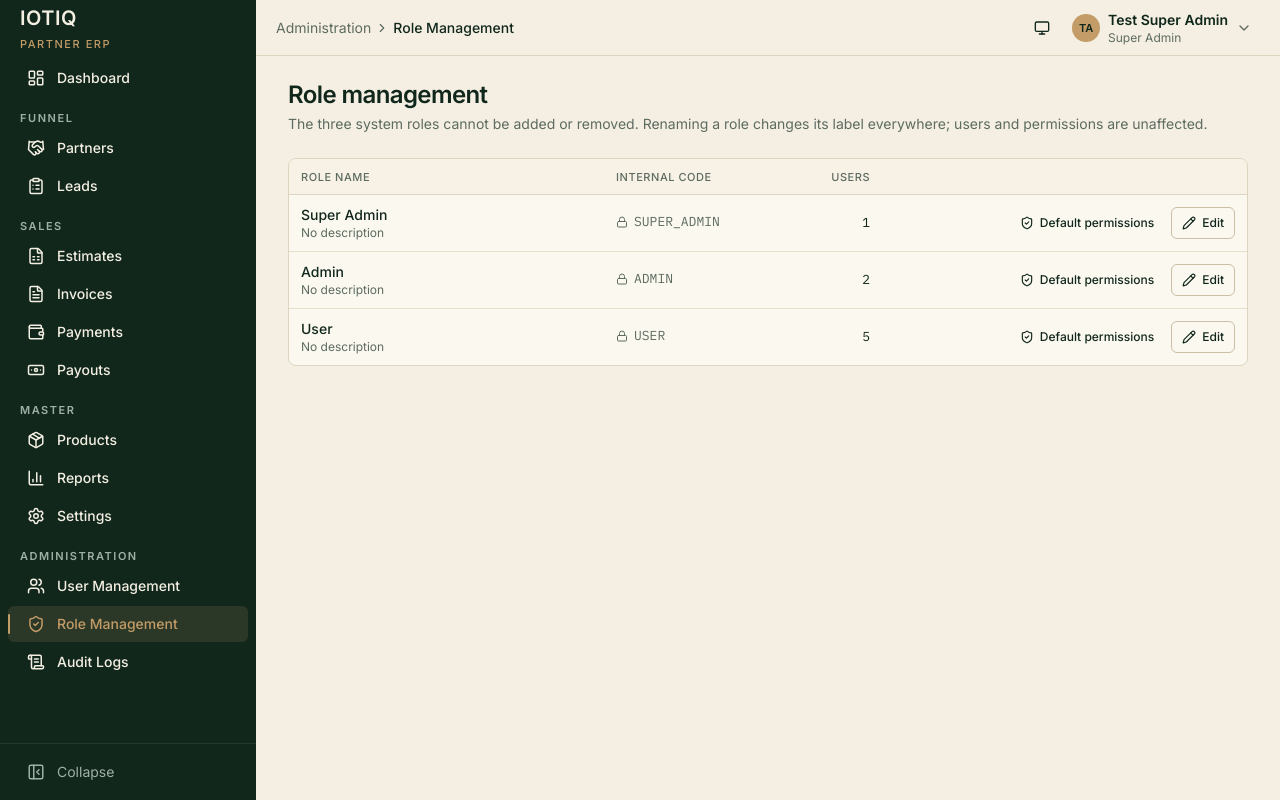
Scenario: role management › reports duplicate names
The image size is (1280, 800).
Click the button with aria-label "Edit User" at point(1203, 337), box [1171,321,1235,353]
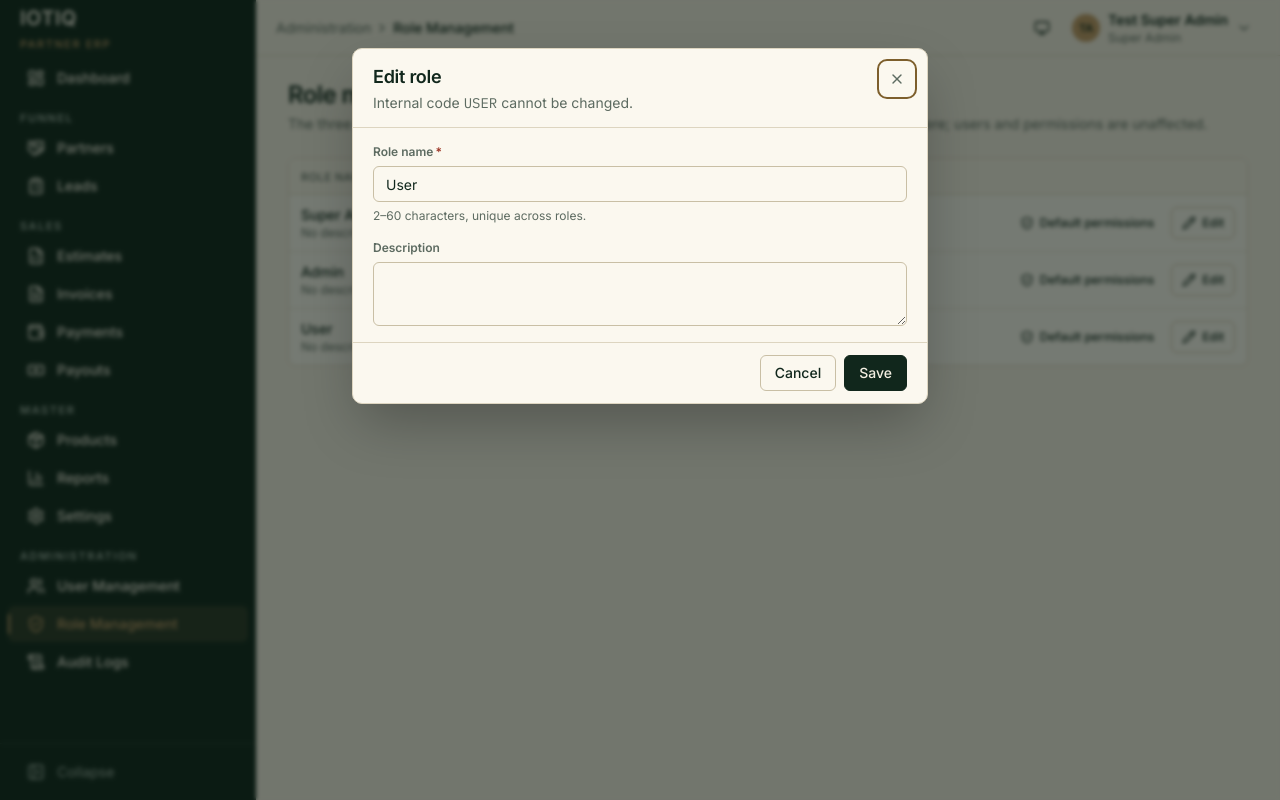
Replace the text in the field labelled "Role name" with "admin" at point(640, 184), box [373,166,907,202]
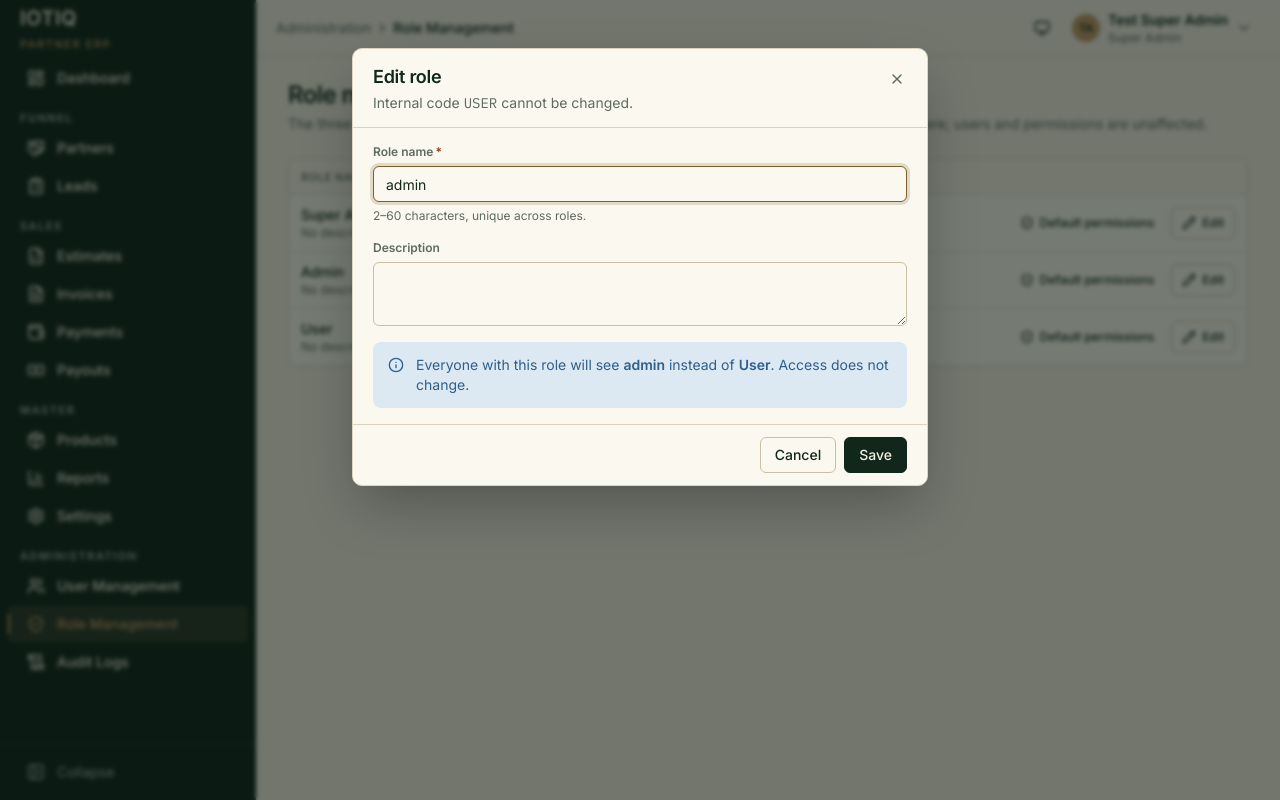
Click the button "Save" at point(876, 455), box [844,437,907,473]
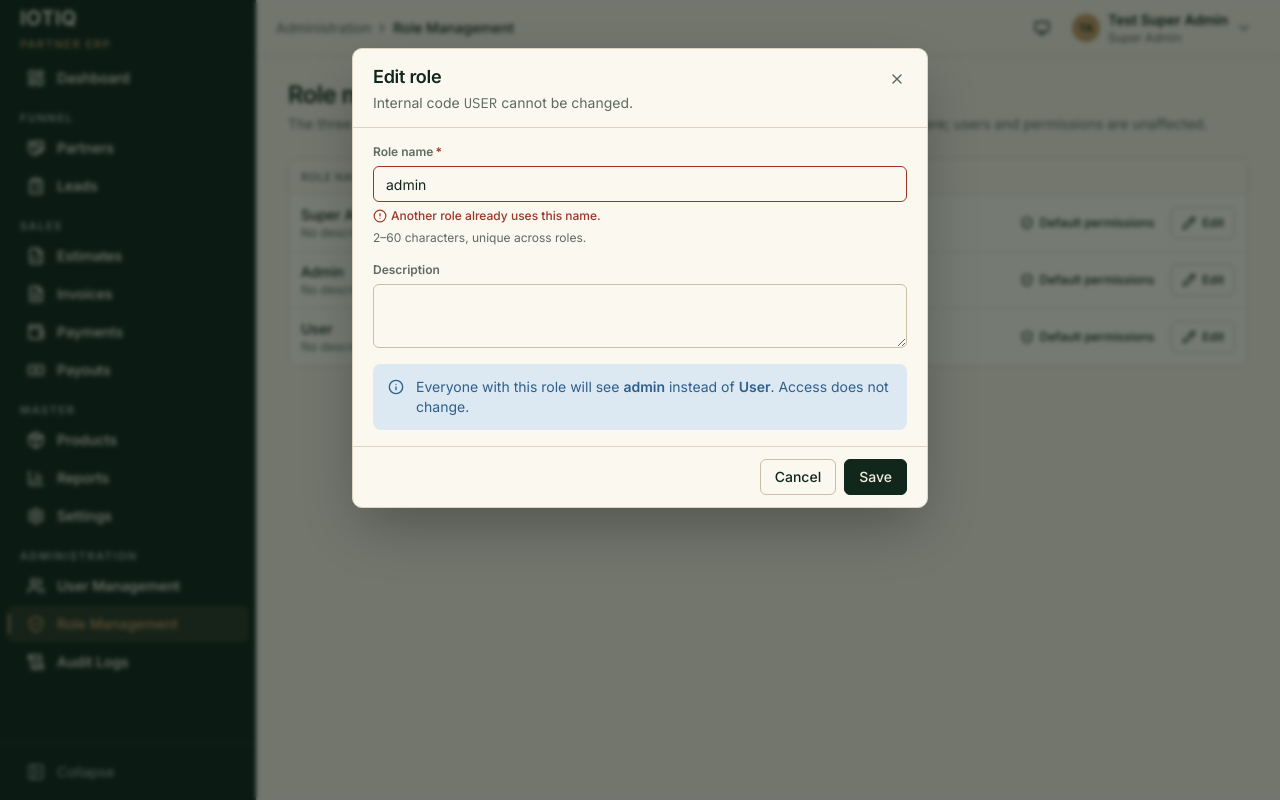
Expected: the text "Another role already uses this name." is shown, [373,208,601,223]
